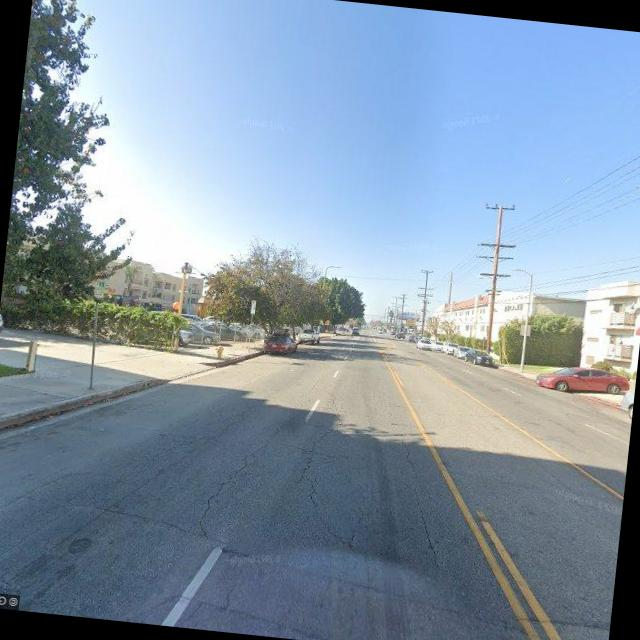pothole: (188, 410, 278, 544), (291, 388, 364, 543), (394, 423, 458, 571)
